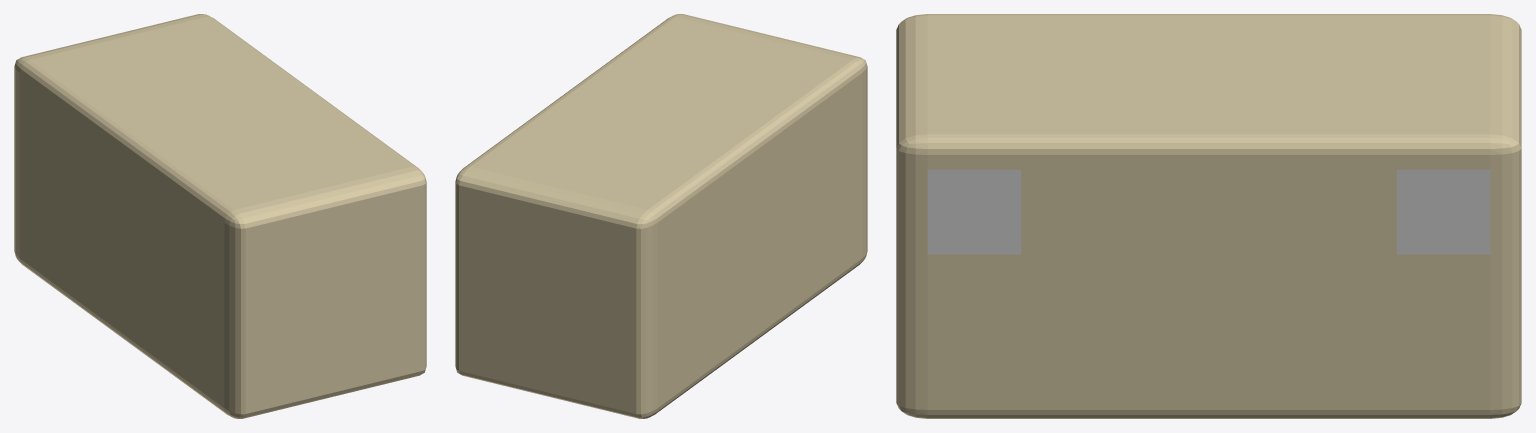
File: Trans_Hashtag.dae
3 views of the same model, side by side, from view 1: azimuth 30°, elevation 25°; view 2: azimuth 150°, elevation 25°; view 3: azimuth 270°, elevation 25° (orthographic). The views are drawn at different scales.
Parts seen in each view (by area): view 1: Cube; view 2: Cube; view 3: Cube, Plane, Plane_001.
Boxes of the visible parts, x1,y1,x2,y2 form: Cube: (14, 14, 426, 418); Cube: (455, 14, 867, 418); Cube: (896, 14, 1521, 418); Plane: (927, 169, 1021, 254); Plane_001: (1396, 169, 1490, 254).
Size of the model in its own units: 1 by 2 by 1.
